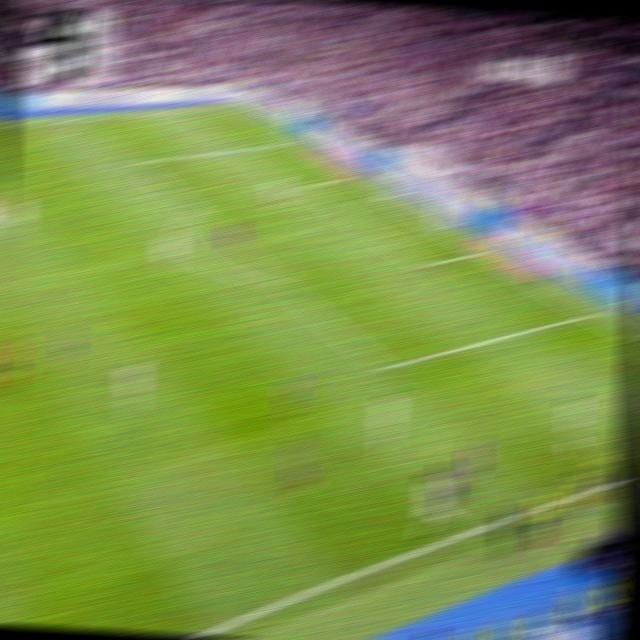bigarea_bottom_inner: (372, 356, 396, 379)
bigarea_bottom_outter: (579, 306, 600, 320)
bigarea_top_inner: (125, 155, 146, 169)
bigarea_top_outter: (283, 137, 301, 145)
bottom_arc_area_intersection: (268, 272, 290, 290)
corner: (221, 102, 241, 110)
smallarea_top_inner: (295, 181, 311, 190)
top_arc_area_intersection: (184, 203, 203, 217)
